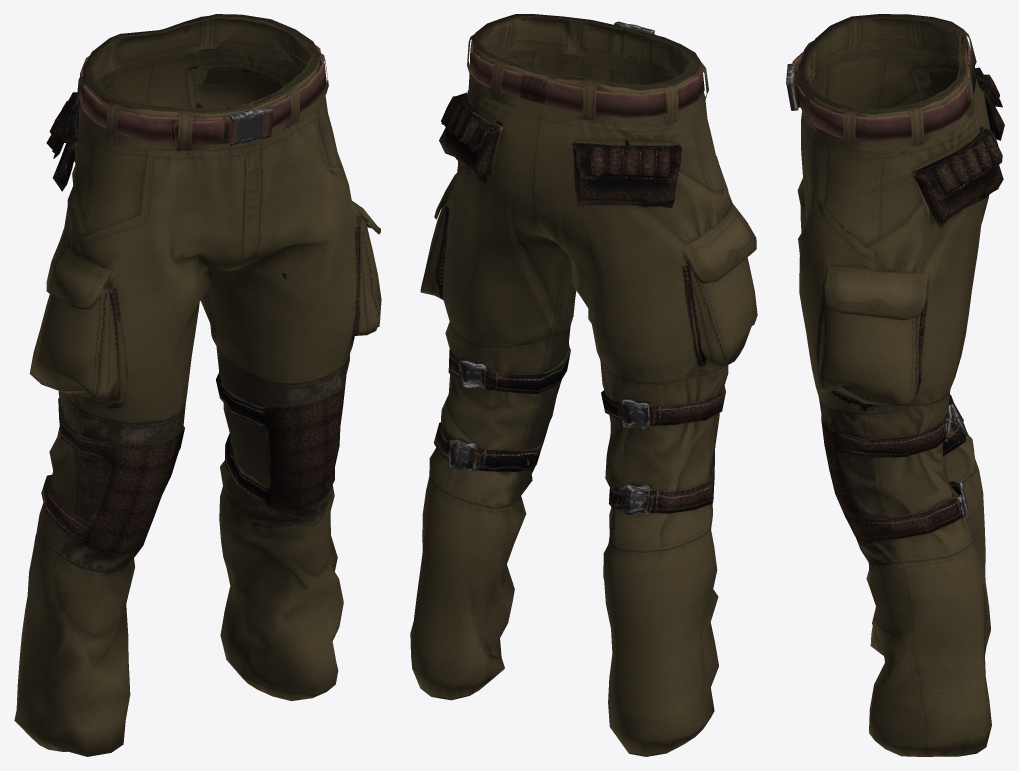
The picture shows the model from 3 angles, left to right: view 1: azimuth 30°, elevation 25°; view 2: azimuth 150°, elevation 25°; view 3: azimuth 270°, elevation 25°; orthographic projection. The views are drawn at different scales.
Parts seen in each view (by area): view 1: shtany_low.006; view 2: shtany_low.006; view 3: shtany_low.006.
Part boxes in pixels (x1,y1,x2,y2): shtany_low.006: [14, 14, 381, 756]; shtany_low.006: [410, 14, 757, 756]; shtany_low.006: [786, 14, 1004, 756].
Size of the model in its own units: 52.75 by 106 by 32.22.
Materials: 1 (1 with a texture image).
